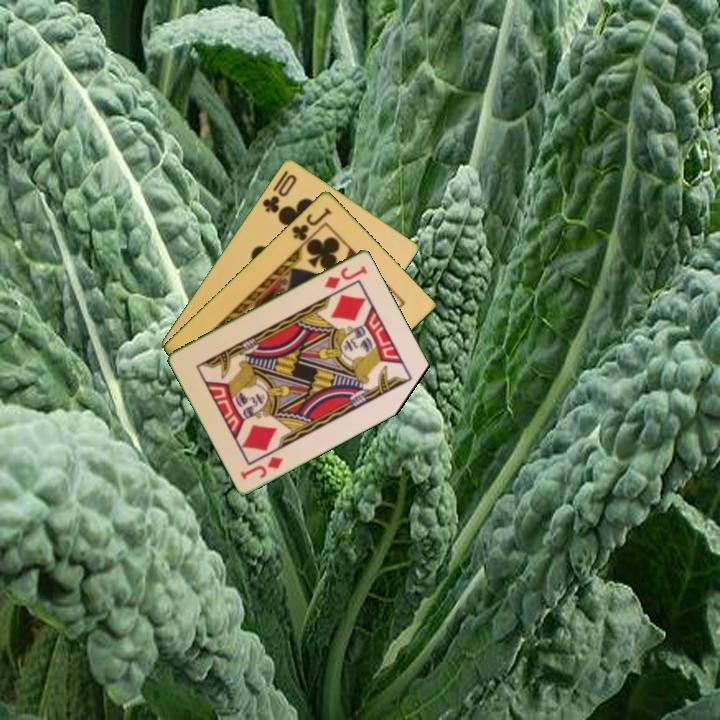10c: (259, 170, 300, 216)
Jc: (288, 203, 335, 243)
Jd: (321, 262, 370, 292), (237, 452, 286, 482)
